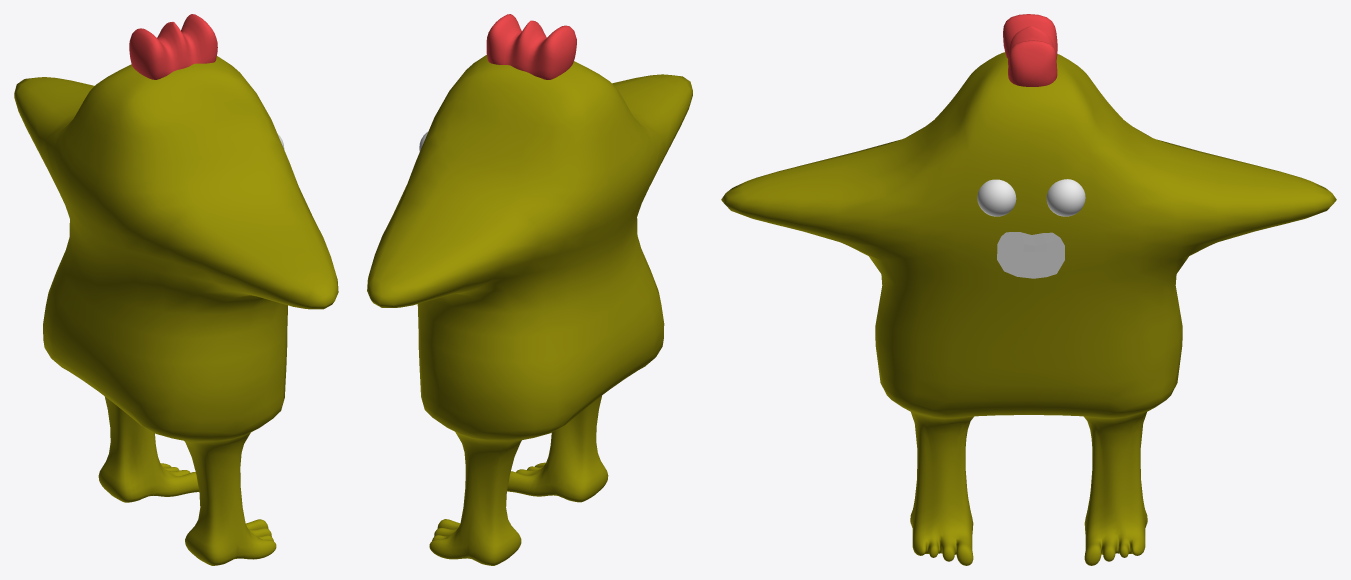
File: ping.fbx
3 renders of one model, left to right at view 1: azimuth 30°, elevation 25°; view 2: azimuth 150°, elevation 25°; view 3: azimuth 270°, elevation 25°, orthographic.
Visible parts, largest first — view 1: Cube, Cube.001; view 2: Cube, Cube.001; view 3: Cube, Cube.001, Plane, Sphere.
Part boxes in pixels (x1,y1,x2,y2): Cube: [14, 56, 338, 565]; Cube.001: [129, 14, 217, 79]; Cube: [367, 54, 692, 565]; Cube.001: [486, 14, 576, 79]; Cube: [721, 52, 1336, 565]; Cube.001: [1003, 14, 1057, 86]; Plane: [997, 232, 1064, 278]; Sphere: [977, 179, 1085, 216].
Bounding box in the file's own units: 138 × 362 × 395.
